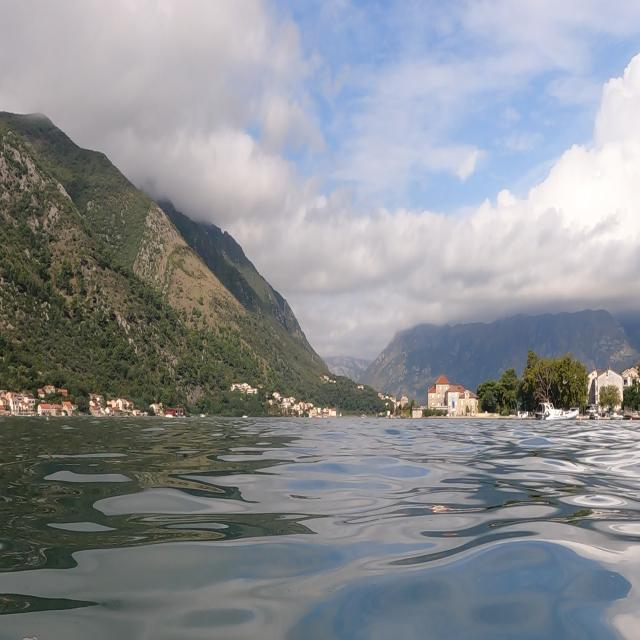boat: (534, 397, 580, 424)
